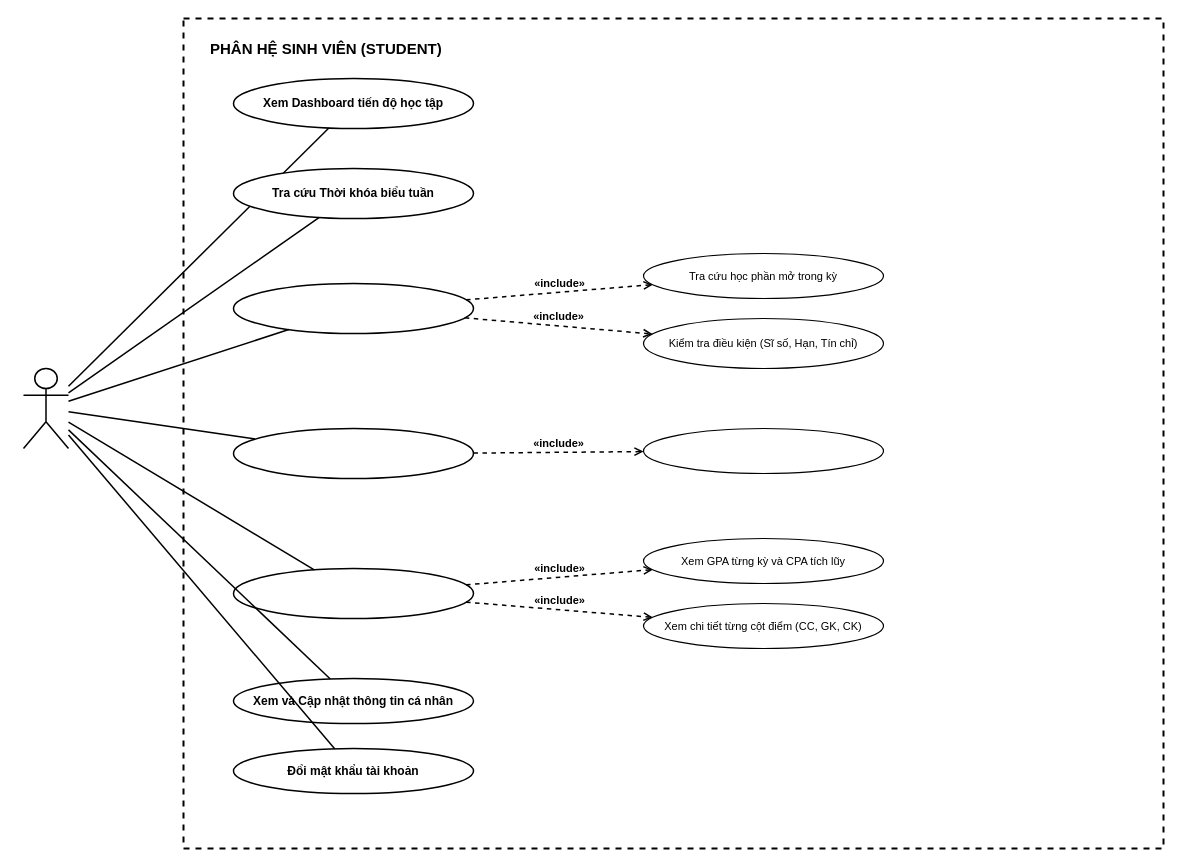
The diagram is 1182 pixels wide and 866 high, and some of its shapes have lost their labels. The shapes that lost their labels are listed below. From the top down, each one's box as (x1, y1, x2, y2) in pixels, then its label:
(232, 282, 474, 334): Đăng ký lớp học phần
(22, 367, 69, 449): Sinh viên (Student)
(232, 427, 474, 479): Hủy đăng ký học phần
(642, 427, 884, 474): Xem danh sách HP đã đăng ký
(232, 567, 474, 619): Tra cứu Bảng điểm học tập
